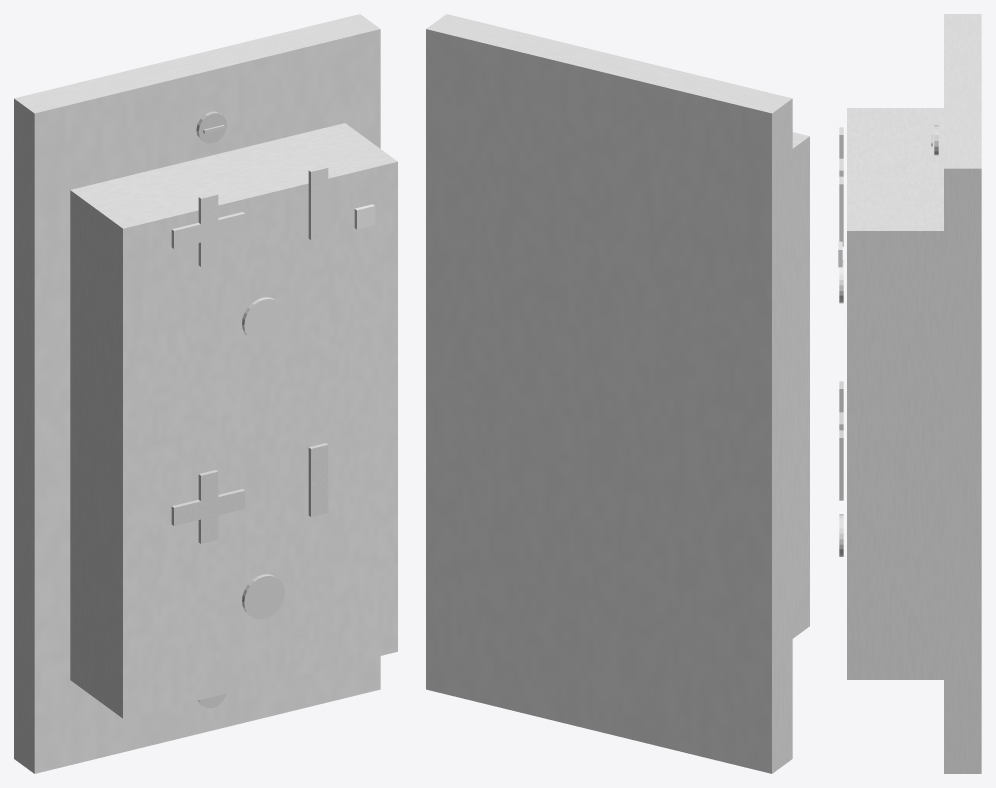
Rendered from appliancewalloutlet.obj.
3 views of the same model, side by side, from view 1: azimuth 30°, elevation 25°; view 2: azimuth 150°, elevation 25°; view 3: azimuth 270°, elevation 25° (orthographic). The views are drawn at different scales.
Parts seen in each view (by area): view 1: Case, Black, TopSocket, Trim; view 2: Case; view 3: Case, Black, TopSocket.
Part boxes in pixels (<box>): Case: <box>14,14,397,773</box>; Black: <box>171,125,328,619</box>; TopSocket: <box>171,166,328,342</box>; Trim: <box>196,111,226,707</box>; Case: <box>426,14,809,773</box>; Case: <box>847,14,981,773</box>; Black: <box>839,134,932,556</box>; TopSocket: <box>839,127,843,303</box>.
Size of the model in its own units: 0.34 by 0.62 by 0.133.
